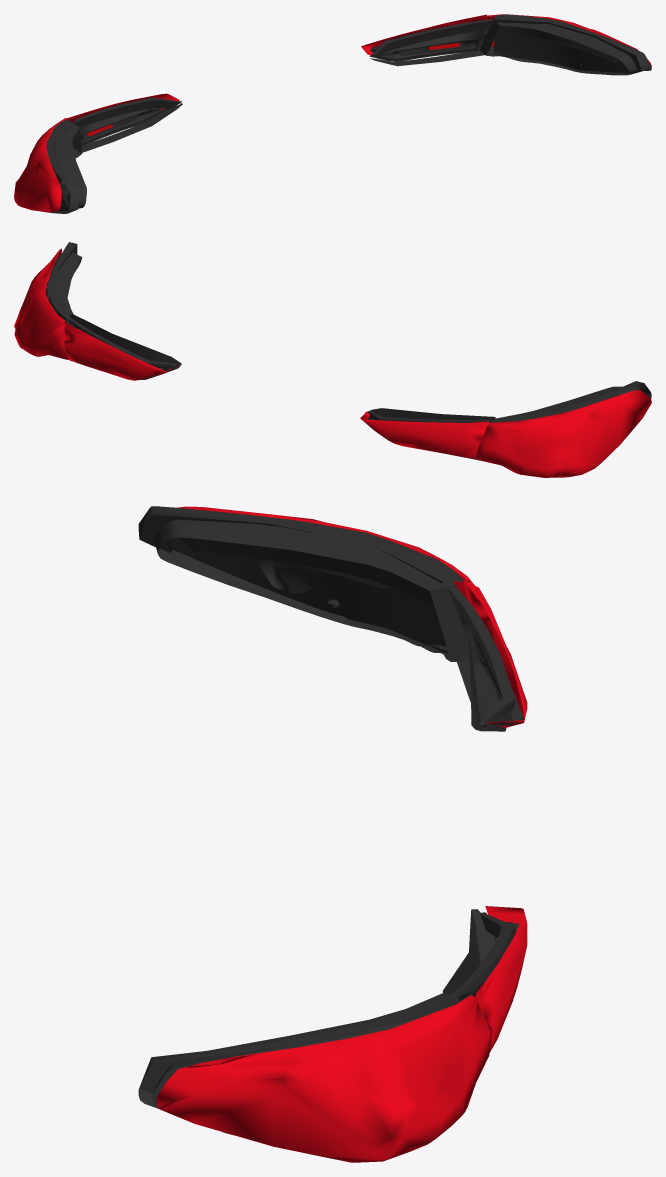
File: taillight.glb
The picture shows the model from 3 angles, top to bottom: view 1: azimuth 30°, elevation 25°; view 2: azimuth 150°, elevation 25°; view 3: azimuth 270°, elevation 25°; orthographic projection. The views are drawn at different scales.
Parts seen in each view (by area): view 1: tailLights; view 2: tailLights; view 3: tailLights.
Boxes of the visible parts, x1,y1,x2,y2 form: tailLights: (14, 14, 651, 213); tailLights: (14, 242, 651, 477); tailLights: (138, 506, 527, 1162).
Size of the model in its own units: 1.59 by 0.1331 by 0.452.
